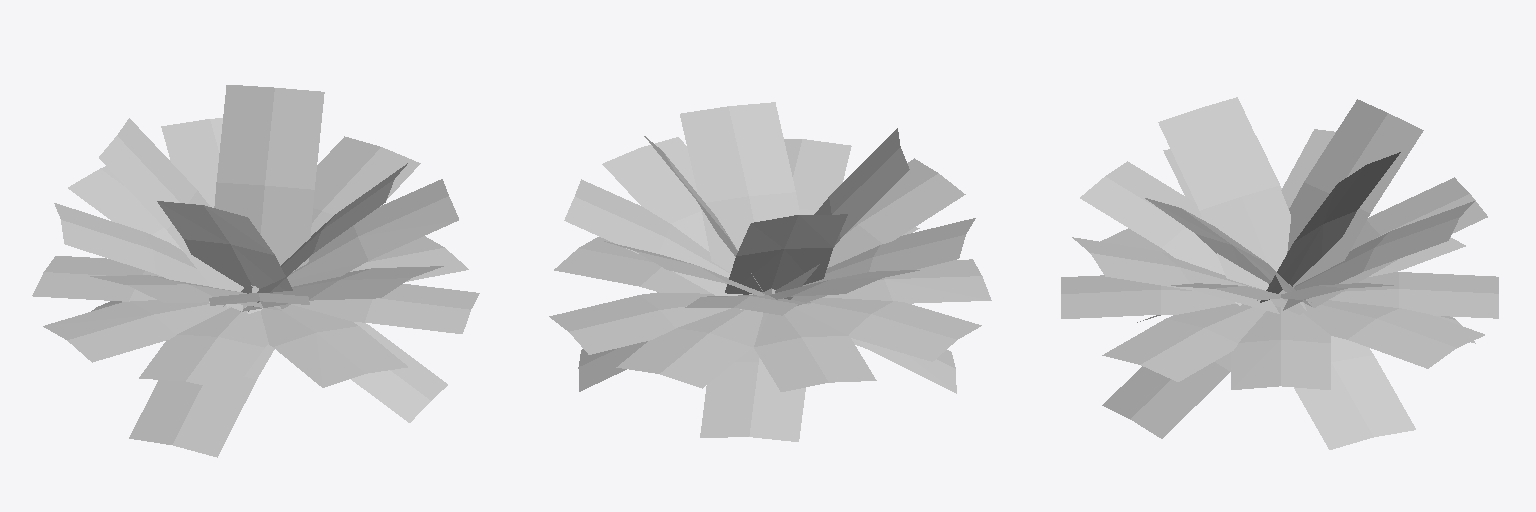
Rendered from palm_half.obj.
3 views of the same model, side by side, from view 1: azimuth 30°, elevation 25°; view 2: azimuth 150°, elevation 25°; view 3: azimuth 270°, elevation 25° (orthographic).
Parts seen in each view (by area): view 1: mesh_Plane; view 2: mesh_Plane; view 3: mesh_Plane.
Part boxes in pixels (x1,y1,x2,y2): mesh_Plane: (32, 85, 479, 457); mesh_Plane: (549, 102, 991, 441); mesh_Plane: (1061, 97, 1498, 449).
Size of the model in its own units: 9.86 by 6.06 by 9.86.